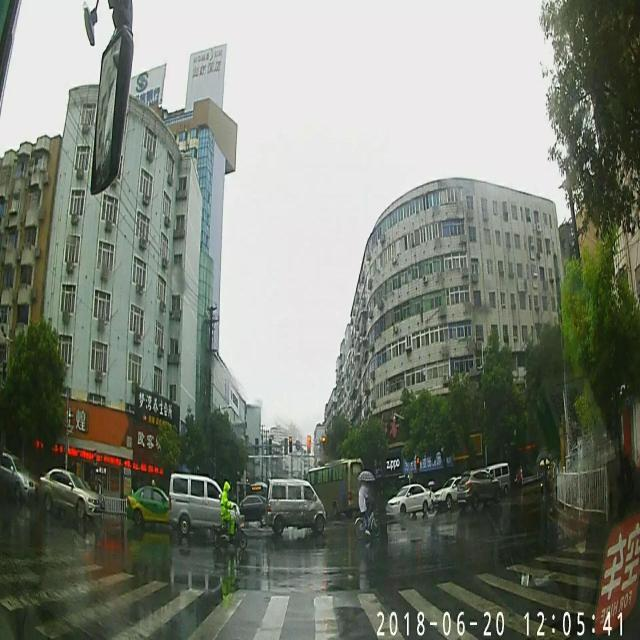car: (168, 473, 239, 537), (262, 477, 324, 533), (39, 468, 104, 520), (126, 479, 180, 525), (456, 469, 504, 508), (0, 449, 35, 502), (388, 484, 430, 518), (434, 476, 470, 513), (233, 491, 270, 526)
